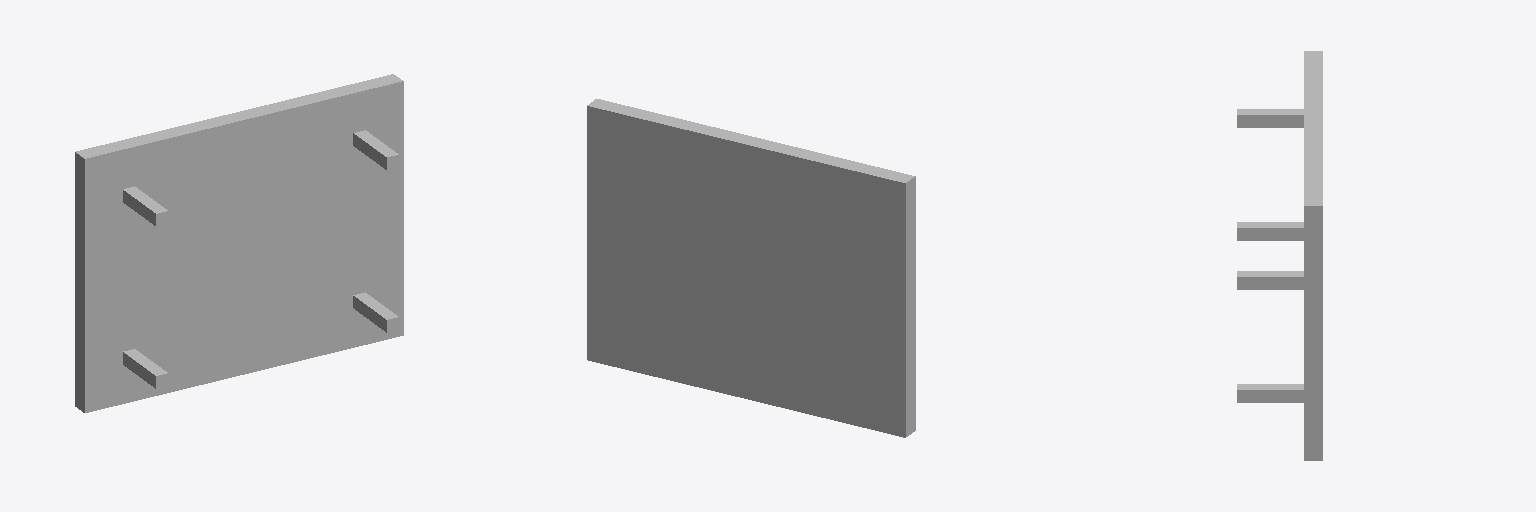
The model's file is random_table67.obj.
The picture shows the model from 3 angles: view 1: azimuth 30°, elevation 25°; view 2: azimuth 150°, elevation 25°; view 3: azimuth 270°, elevation 25°; orthographic projection.
Visible parts, largest first — view 1: Table_Cube.1400, TableLeg1_Cube.1402, TableLeg2_Cube.1403, TableLeg3_Cube.1404, TableLeg0_Cube.1401; view 2: Table_Cube.1400; view 3: Table_Cube.1400, TableLeg0_Cube.1401, TableLeg1_Cube.1402, TableLeg2_Cube.1403, TableLeg3_Cube.1404.
Part boxes in pixels (bbox=[...]): Table_Cube.1400: bbox=[75, 74, 403, 412]; TableLeg1_Cube.1402: bbox=[123, 186, 168, 226]; TableLeg2_Cube.1403: bbox=[353, 292, 398, 332]; TableLeg3_Cube.1404: bbox=[123, 349, 168, 388]; TableLeg0_Cube.1401: bbox=[353, 130, 398, 169]; Table_Cube.1400: bbox=[587, 99, 915, 437]; Table_Cube.1400: bbox=[1304, 51, 1322, 460]; TableLeg0_Cube.1401: bbox=[1237, 222, 1303, 240]; TableLeg1_Cube.1402: bbox=[1237, 109, 1303, 127]; TableLeg2_Cube.1403: bbox=[1237, 384, 1303, 402]; TableLeg3_Cube.1404: bbox=[1237, 271, 1303, 289].
Size of the model in its own units: 7.39 by 5.64 by 1.74.